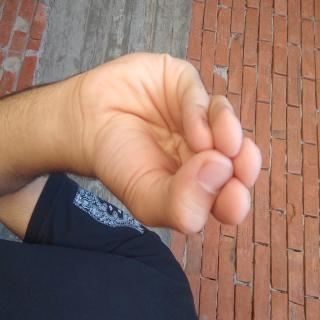HA: (34, 70, 180, 320)
